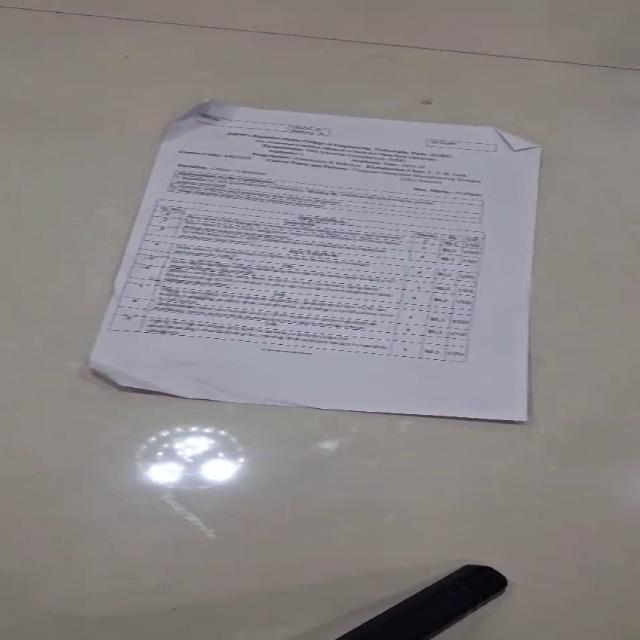paper: (87, 99, 542, 422)
